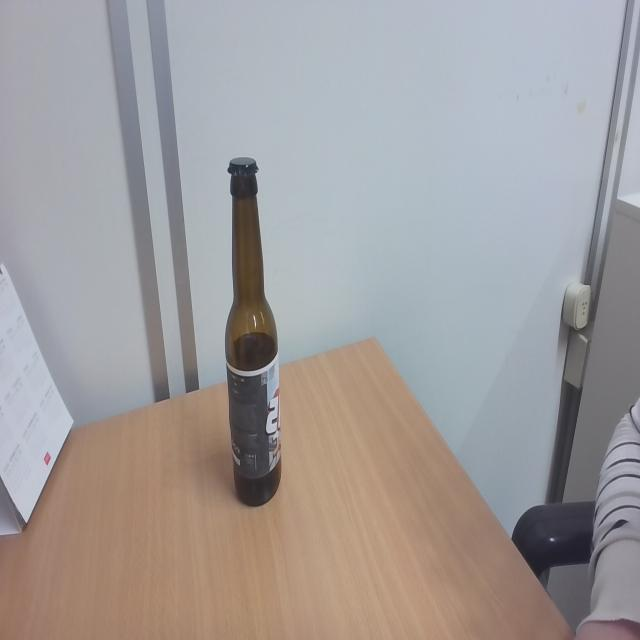Bottle: (224, 154, 281, 508)
Cap: (226, 156, 262, 180)
Label: (227, 357, 279, 483)
